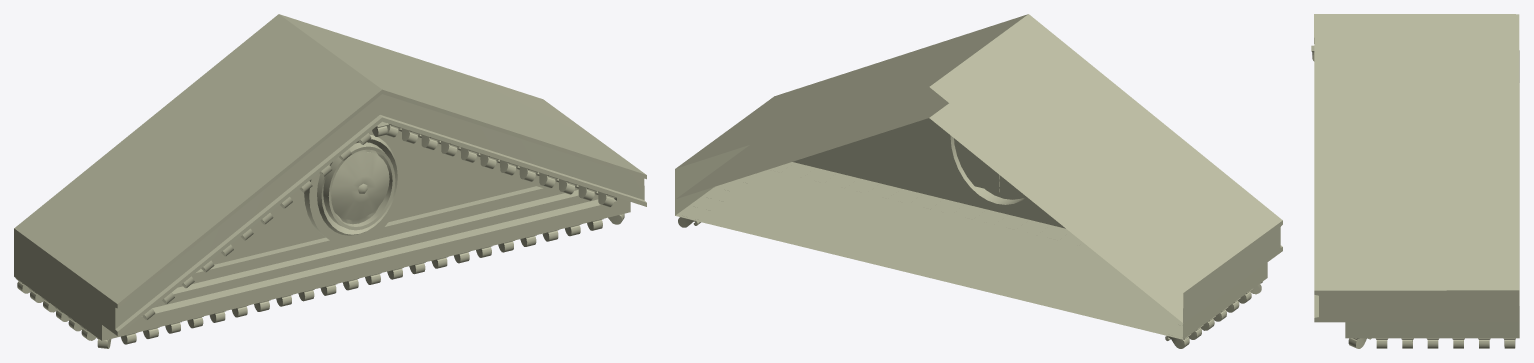
The model's file is SM_bossgateroof.fbx.
3 views of the same model, side by side, from view 1: azimuth 30°, elevation 25°; view 2: azimuth 150°, elevation 25°; view 3: azimuth 270°, elevation 25° (orthographic). The views are drawn at different scales.
Visible parts, largest first — view 1: SM_bossgateroof; view 2: SM_bossgateroof; view 3: SM_bossgateroof.
Part boxes in pixels (bbox=[...]): SM_bossgateroof: bbox=[14, 14, 646, 348]; SM_bossgateroof: bbox=[675, 14, 1282, 348]; SM_bossgateroof: bbox=[1311, 14, 1519, 348].
Size of the model in its own units: 1720 by 655 by 592.
